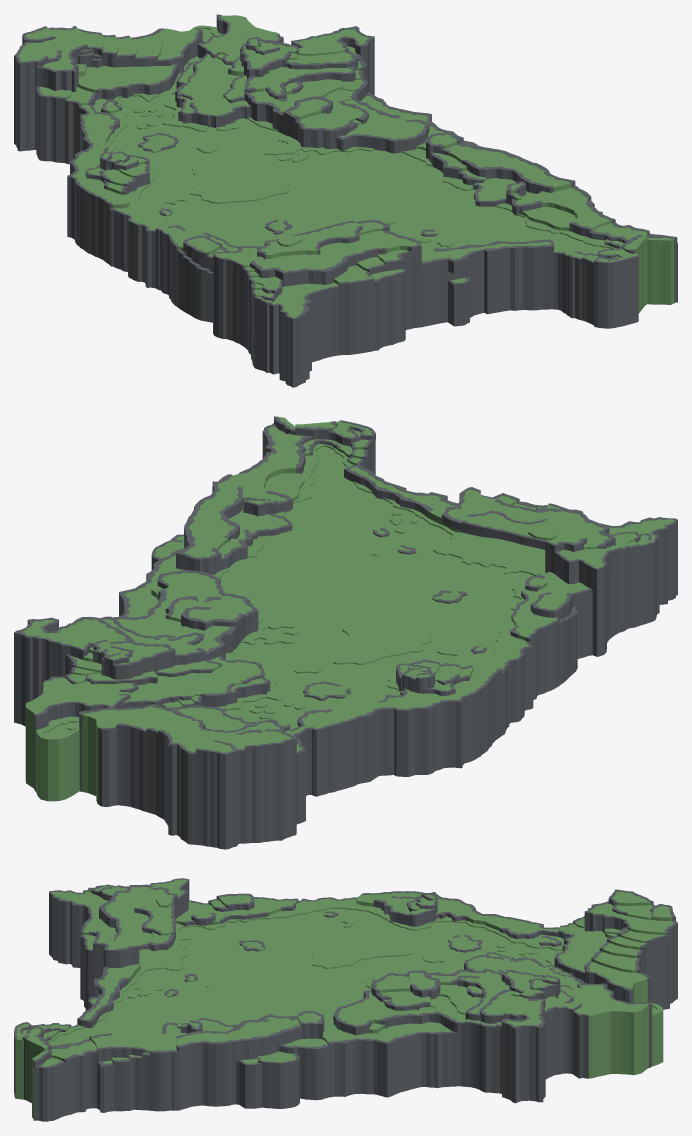
The model's file is tiles_liurnia.glb.
3 renders of one model, top to bottom at view 1: azimuth 30°, elevation 25°; view 2: azimuth 150°, elevation 25°; view 3: azimuth 270°, elevation 25°, orthographic. The views are drawn at different scales.
Visible parts, largest first — view 1: Plane.370, Plane.284, Plane.292, Plane.314, Plane.287, Plane.249, Plane.346, Plane.261, Plane.291, Plane.293, Plane.360, Plane.268 (+39 smaller); view 2: Plane.370, Plane.314, Plane.319, Plane.302, Plane.338, Plane.316, Plane.325, Plane.344, Plane.346, Plane.360, Plane.317, Plane.293 (+37 smaller); view 3: Plane.370, Plane.266, Plane.344, Plane.261, Plane.338, Plane.256, Plane.287, Plane.257, Plane.292, Plane.314, Plane.255, Plane.360 (+49 smaller).
Boxes of the visible parts, bbox=[...] form: Plane.370: bbox=[93, 25, 615, 310]; Plane.284: bbox=[420, 239, 553, 327]; Plane.292: bbox=[269, 282, 339, 387]; Plane.314: bbox=[67, 104, 129, 264]; Plane.287: bbox=[250, 230, 421, 328]; Plane.249: bbox=[594, 247, 638, 328]; Plane.346: bbox=[175, 53, 250, 128]; Plane.261: bbox=[440, 143, 575, 193]; Plane.291: bbox=[333, 265, 374, 355]; Plane.293: bbox=[213, 246, 260, 345]; Plane.360: bbox=[190, 157, 289, 203]; Plane.268: bbox=[335, 98, 429, 153]; Plane.370: bbox=[36, 444, 544, 801]; Plane.314: bbox=[289, 662, 501, 796]; Plane.319: bbox=[244, 729, 296, 843]; Plane.302: bbox=[510, 571, 592, 699]; Plane.338: bbox=[14, 617, 104, 726]; Plane.316: bbox=[195, 740, 237, 849]; Plane.325: bbox=[79, 704, 172, 806]; Plane.344: bbox=[25, 676, 138, 791]; Plane.346: bbox=[122, 655, 264, 708]; Plane.360: bbox=[333, 611, 431, 664]; Plane.317: bbox=[170, 719, 285, 844]; Plane.293: bbox=[554, 548, 611, 656]; Plane.370: bbox=[48, 897, 663, 1066]; Plane.266: bbox=[322, 1022, 457, 1097]; Plane.344: bbox=[560, 983, 652, 1078]; Plane.261: bbox=[176, 1017, 301, 1109]; Plane.338: bbox=[501, 996, 545, 1103]; Plane.256: bbox=[89, 1022, 180, 1111]; Plane.287: bbox=[99, 885, 154, 967]; Plane.257: bbox=[97, 1053, 150, 1112]; Plane.292: bbox=[49, 890, 108, 967]; Plane.314: bbox=[356, 891, 559, 938]; Plane.255: bbox=[51, 1039, 97, 1115]; Plane.360: bbox=[311, 930, 413, 969].
Bounding box in the file's own units: 21.24 × 4.53 × 33.95.
